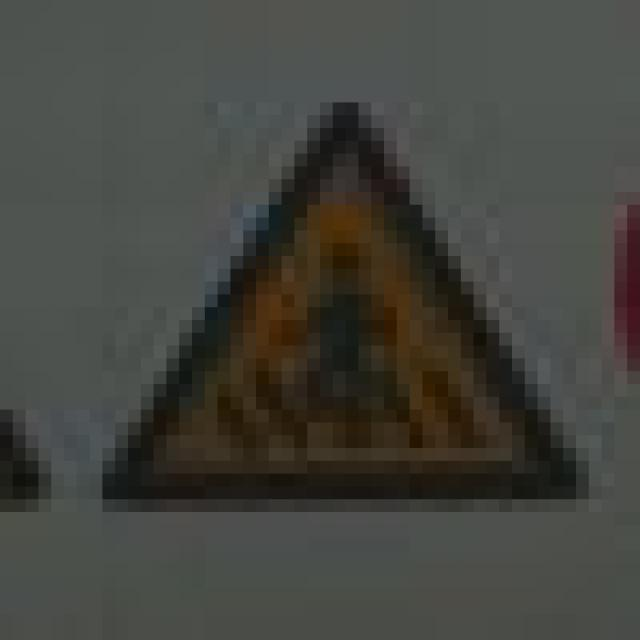PEDESTRIAN_CROSSING: (90, 77, 576, 499)
